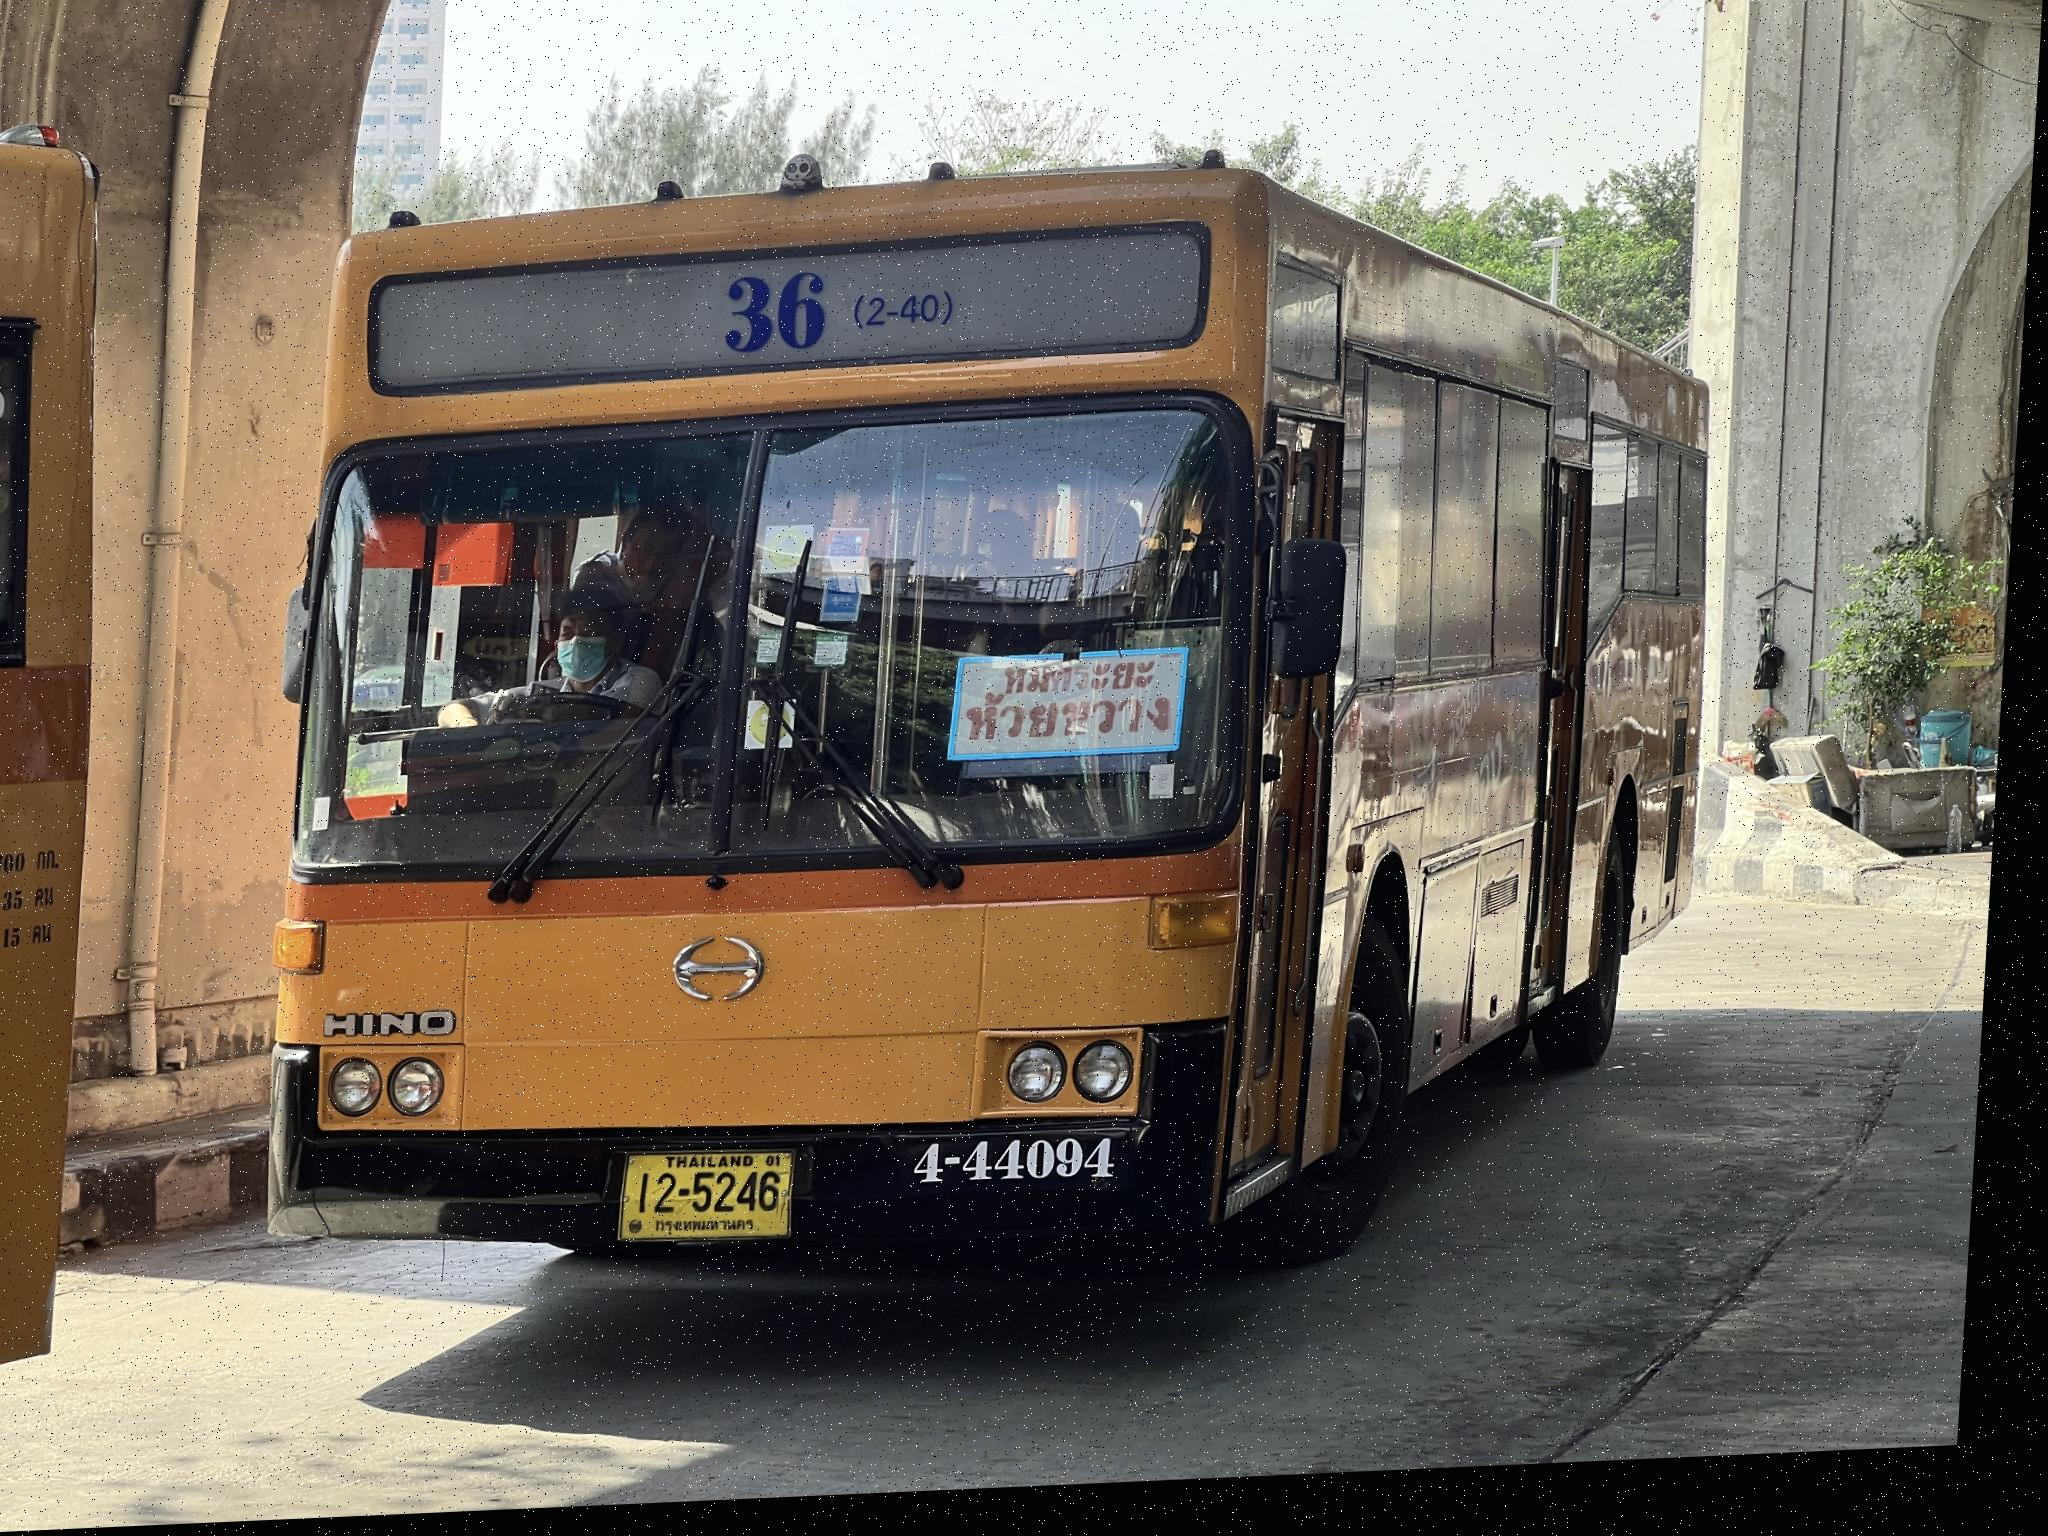BMTA-bus: (282, 179, 1724, 1278)
Bus Line Number: (710, 258, 985, 384)
Bus Side Number: (911, 1134, 1147, 1215)
Destination Sign: (958, 658, 1195, 774)
